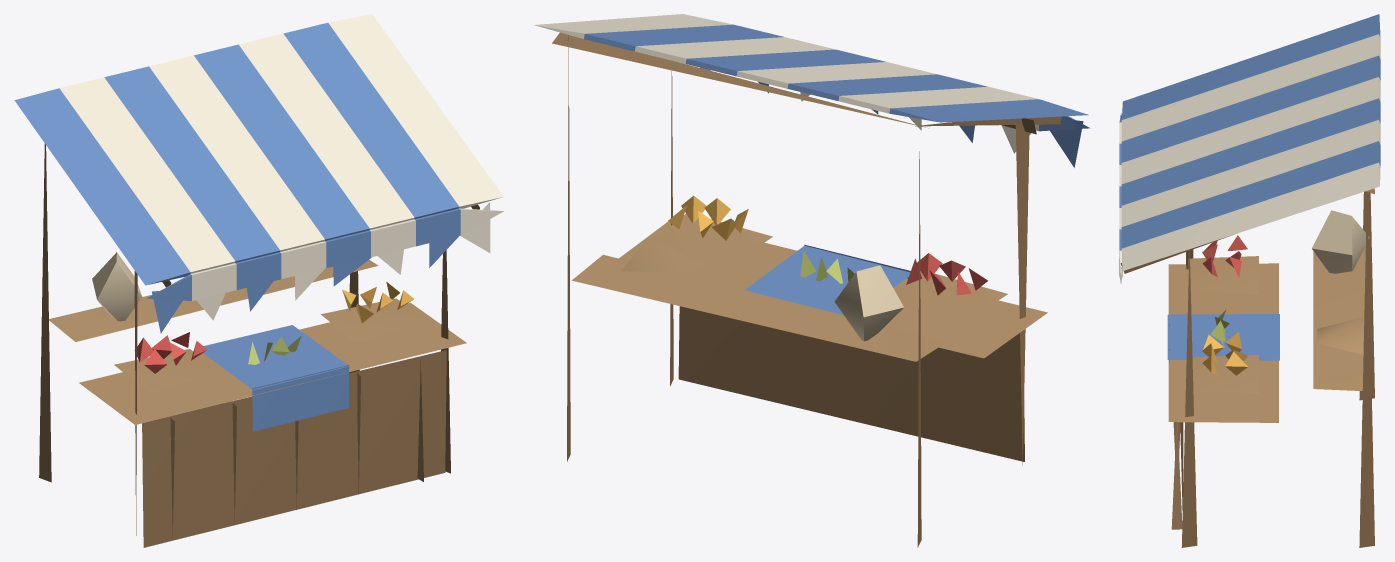
File: generated.market_stall_blue.gltf
The picture shows the model from 3 angles, left to right: view 1: azimuth 30°, elevation 25°; view 2: azimuth 150°, elevation 25°; view 3: azimuth 270°, elevation 25°; orthographic projection. The views are drawn at different scales.
Parts seen in each view (by area): view 1: market_stall_blue; view 2: market_stall_blue; view 3: market_stall_blue.
Part boxes in pixels (x1,y1,x2,y2): market_stall_blue: (14, 14, 503, 547); market_stall_blue: (534, 14, 1089, 547); market_stall_blue: (1119, 14, 1380, 547).
Bounding box in the file's own units: 2.6 × 2.65 × 1.68.
